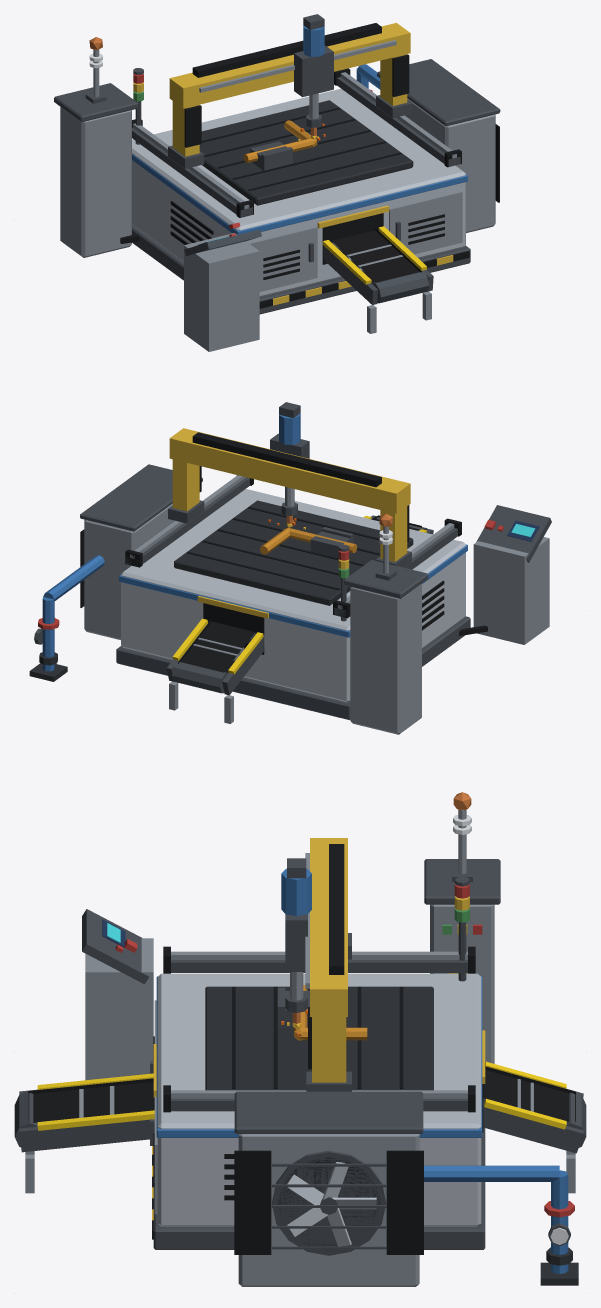
File: constructeur_t2.glb
The picture shows the model from 3 angles, top to bottom: view 1: azimuth 30°, elevation 25°; view 2: azimuth 150°, elevation 25°; view 3: azimuth 270°, elevation 25°; orthographic projection. The views are drawn at different scales.
Visible parts, largest first — view 1: bati.004, pieces_acier.015, table.002, armoire.008, pieces_noir.015, pieces_acier_sombre.015, portique_jaune.002, refroidisseur.002, refroidisseur_toit.002, portique_noir.002, bati_socle.002, bati_bandeau.002 (+8 smaller); view 2: bati.004, table.002, armoire.008, pieces_acier.015, portique_jaune.002, pieces_acier_sombre.015, pieces_noir.015, refroidisseur.002, bati_socle.002, refroidisseur_toit.002, portique_noir.002, armoire_toit.008 (+9 smaller); view 3: bati.004, pieces_noir.015, table.002, pieces_acier_sombre.015, pieces_acier.015, refroidisseur.002, refroidisseur_toit.002, portique_jaune.002, ventilateur_cadre.004, armoire.008, bati_socle.002, pieces_bleu.010 (+11 smaller).
Part boxes in pixels (x1,y1,x2,y2): bati.004: [132, 88, 465, 296]; pieces_acier.015: [93, 49, 462, 351]; table.002: [199, 100, 413, 205]; armoire.008: [60, 107, 131, 257]; pieces_noir.015: [120, 68, 499, 308]; pieces_acier_sombre.015: [85, 68, 460, 304]; portique_jaune.002: [169, 23, 410, 156]; refroidisseur.002: [405, 98, 495, 232]; refroidisseur_toit.002: [377, 59, 500, 126]; portique_noir.002: [184, 23, 409, 147]; bati_socle.002: [132, 224, 470, 314]; bati_bandeau.002: [132, 154, 467, 234]; bati.004: [121, 489, 465, 702]; table.002: [174, 500, 413, 605]; armoire.008: [350, 584, 421, 734]; pieces_acier.015: [130, 475, 549, 723]; portique_jaune.002: [169, 428, 410, 561]; pieces_acier_sombre.015: [126, 477, 551, 695]; pieces_noir.015: [80, 475, 487, 672]; refroidisseur.002: [84, 504, 174, 639]; bati_socle.002: [116, 616, 470, 719]; refroidisseur_toit.002: [80, 464, 202, 531]; portique_noir.002: [192, 432, 409, 542]; armoire_toit.008: [344, 560, 428, 598]; bati.004: [157, 973, 481, 1226]; pieces_noir.015: [28, 946, 575, 1254]; table.002: [205, 986, 433, 1090]; pieces_acier_sombre.015: [14, 868, 586, 1249]; pieces_acier.015: [25, 809, 575, 1214]; refroidisseur.002: [238, 1134, 419, 1286]; refroidisseur_toit.002: [234, 1091, 423, 1133]; portique_jaune.002: [310, 838, 347, 1082]; ventilateur_cadre.004: [272, 1150, 386, 1255]; armoire.008: [430, 904, 494, 1063]; bati_socle.002: [153, 1127, 485, 1249]; pieces_bleu.010: [424, 1165, 568, 1273].
Bounding box in the file's own units: 2 × 1.22 × 2.
